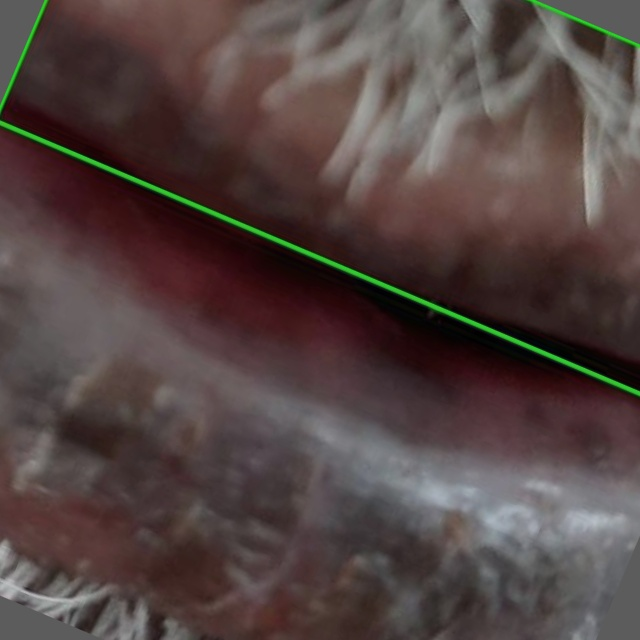Contact Dermatitis: (0, 0, 639, 393)
